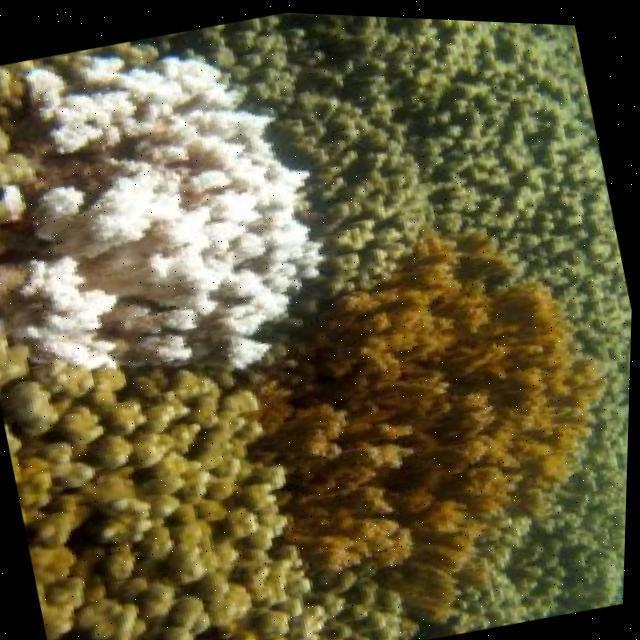Bleached Coral: (19, 71, 300, 350)
Healthy Coral: (310, 234, 585, 591), (27, 379, 277, 625)
